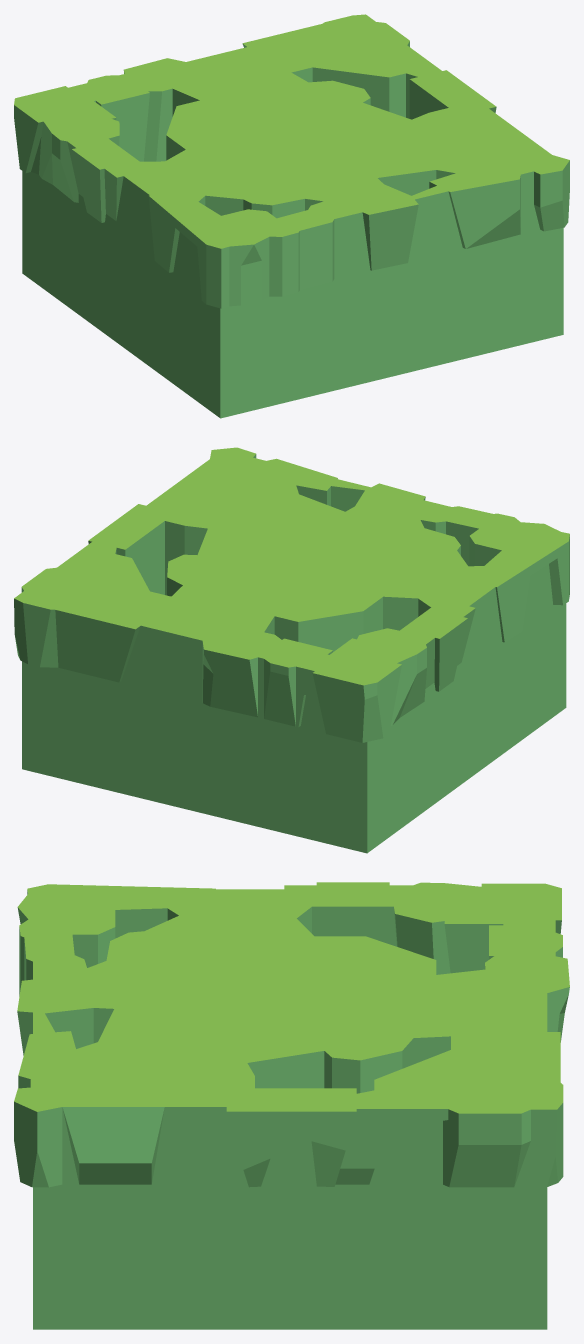
The model's file is x_lock_BIGMICRO_skala_part8_1_rmstrd_2.fbx.
3 renders of one model, top to bottom at view 1: azimuth 30°, elevation 25°; view 2: azimuth 150°, elevation 25°; view 3: azimuth 270°, elevation 25°, orthographic. The views are drawn at different scales.
Parts seen in each view (by area): view 1: x_lock_BIGMICRO_skala_part8_1_rmstrd_2_1; view 2: x_lock_BIGMICRO_skala_part8_1_rmstrd_2_1; view 3: x_lock_BIGMICRO_skala_part8_1_rmstrd_2_1.
Boxes of the visible parts, x1,y1,x2,y2 form: x_lock_BIGMICRO_skala_part8_1_rmstrd_2_1: (14,14,569,418); x_lock_BIGMICRO_skala_part8_1_rmstrd_2_1: (14,447,569,853); x_lock_BIGMICRO_skala_part8_1_rmstrd_2_1: (14,882,569,1329).
Bounding box in the file's own units: 31.91 × 14.34 × 32.42.
